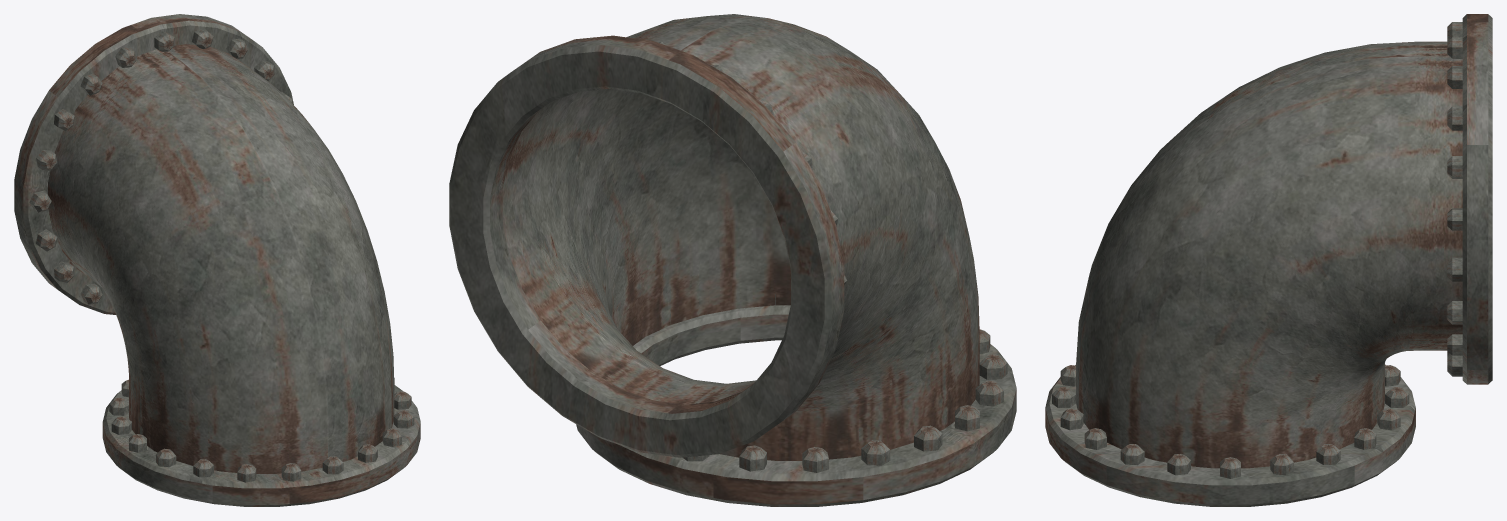
File: pipe-to-ground.glb
3 views of the same model, side by side, from view 1: azimuth 30°, elevation 25°; view 2: azimuth 150°, elevation 25°; view 3: azimuth 270°, elevation 25° (orthographic). The views are drawn at different scales.
Visible parts, largest first — view 1: Cylinder, Tube, Tube_2; view 2: Cylinder, Tube, Tube_2, Cylinder_17_2, Cylinder_16_2, Cylinder_13_2, Cylinder_14_2; view 3: Cylinder, Tube_2, Tube.
Part boxes in pixels (left/top/right/bottom): Cylinder: left=48, top=44, right=394, bottom=473; Tube: left=14, top=14, right=293, bottom=314; Tube_2: left=102, top=385, right=420, bottom=506; Cylinder: left=502, top=14, right=979, bottom=460; Tube: left=449, top=35, right=844, bottom=457; Tube_2: left=576, top=305, right=1016, bottom=506; Cylinder_17_2: left=861, top=440, right=890, bottom=465; Cylinder_16_2: left=914, top=425, right=942, bottom=451; Cylinder_13_2: left=979, top=354, right=1007, bottom=379; Cylinder_14_2: left=975, top=380, right=1003, bottom=406; Cylinder: left=1076, top=41, right=1462, bottom=468; Tube_2: left=1045, top=364, right=1415, bottom=506; Tube: left=1462, top=14, right=1492, bottom=384.
Size of the model in its own units: 1.43 by 1.71 by 1.74.
1 material, 1 textured.
